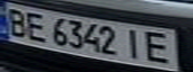2: (96, 24, 121, 57)
3: (66, 19, 84, 51)
4: (81, 20, 103, 54)
6: (45, 16, 69, 48)
B: (3, 6, 30, 38)
E: (142, 29, 181, 65), (21, 10, 51, 43)
I: (121, 26, 148, 61)
